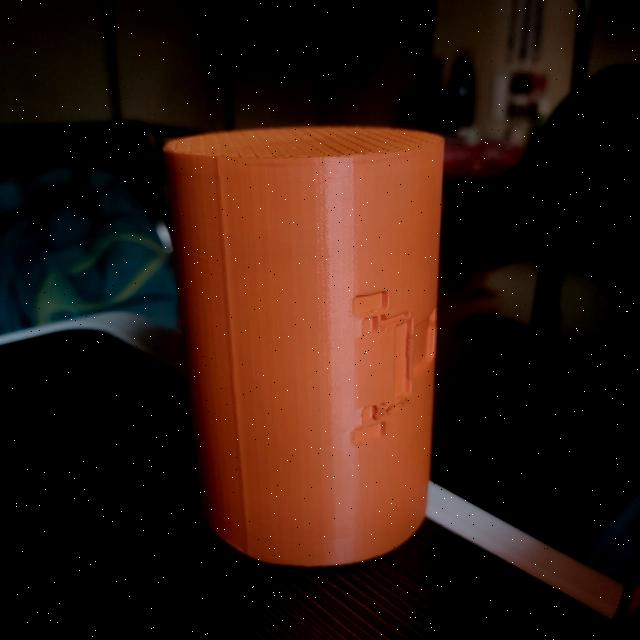Cylinder: (162, 123, 446, 567)
